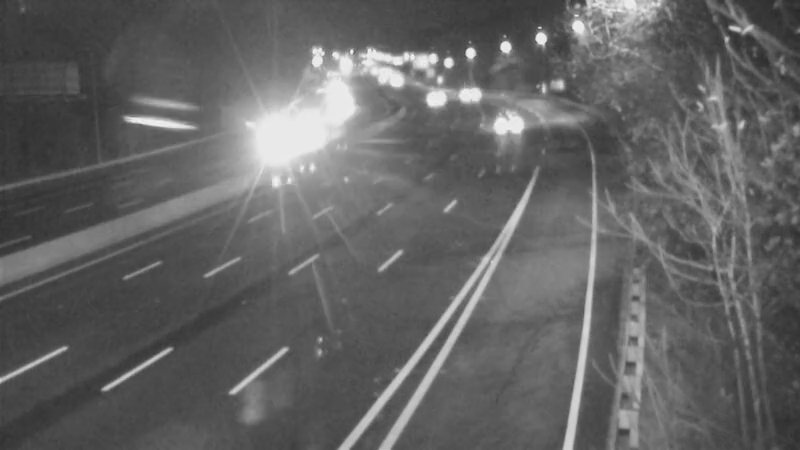vehicle: (404, 70, 454, 120), (443, 69, 493, 119), (480, 102, 530, 152)
